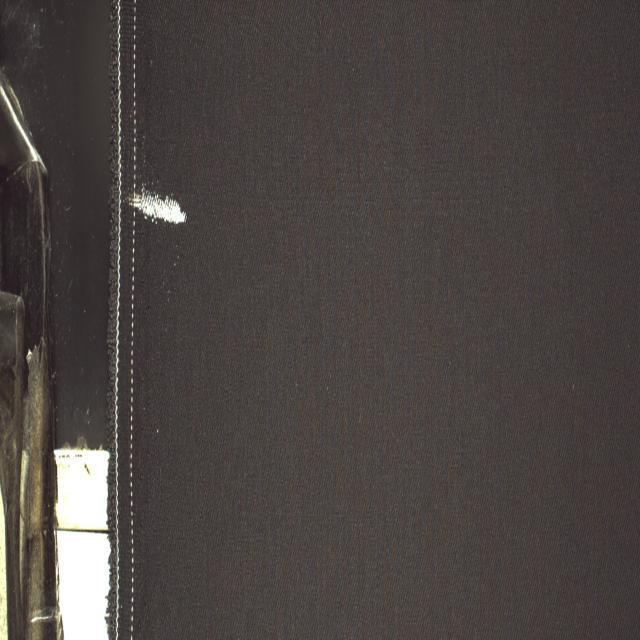stain: (130, 192, 186, 224)
